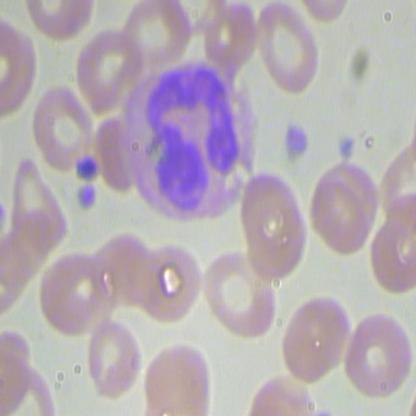Platelets: (278, 121, 313, 166), (73, 179, 99, 218), (337, 127, 358, 166), (74, 151, 99, 181)
RBC: (233, 170, 311, 275), (201, 243, 278, 348), (254, 1, 326, 98), (37, 251, 116, 338), (31, 81, 100, 177), (281, 294, 352, 386), (74, 23, 142, 119), (341, 309, 412, 400), (140, 334, 209, 415), (134, 242, 202, 324), (85, 313, 146, 403), (307, 173, 372, 257), (125, 1, 189, 80)
WBC: (120, 56, 257, 225)
